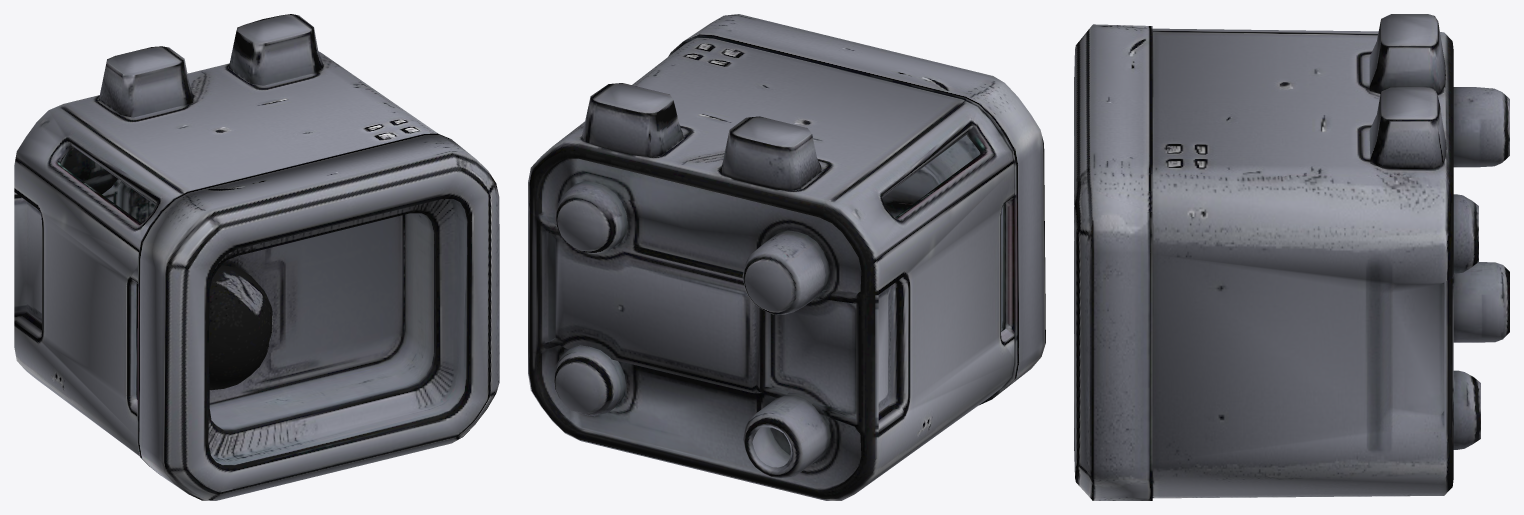
3 renders of one model, left to right at view 1: azimuth 30°, elevation 25°; view 2: azimuth 150°, elevation 25°; view 3: azimuth 270°, elevation 25°, orthographic. The views are drawn at different scales.
Parts seen in each view (by area): view 1: tripo_node_8713b8cb-012f-488a-b9af-300235ab21ab; view 2: tripo_node_8713b8cb-012f-488a-b9af-300235ab21ab; view 3: tripo_node_8713b8cb-012f-488a-b9af-300235ab21ab.
Part boxes in pixels (x1,y1,x2,y2): tripo_node_8713b8cb-012f-488a-b9af-300235ab21ab: (14, 14, 499, 500); tripo_node_8713b8cb-012f-488a-b9af-300235ab21ab: (528, 14, 1045, 500); tripo_node_8713b8cb-012f-488a-b9af-300235ab21ab: (1074, 14, 1509, 500).
Bounding box in the file's own units: 0.1215 × 0.1115 × 0.1186.
Materials: 1 (1 with a texture image).
